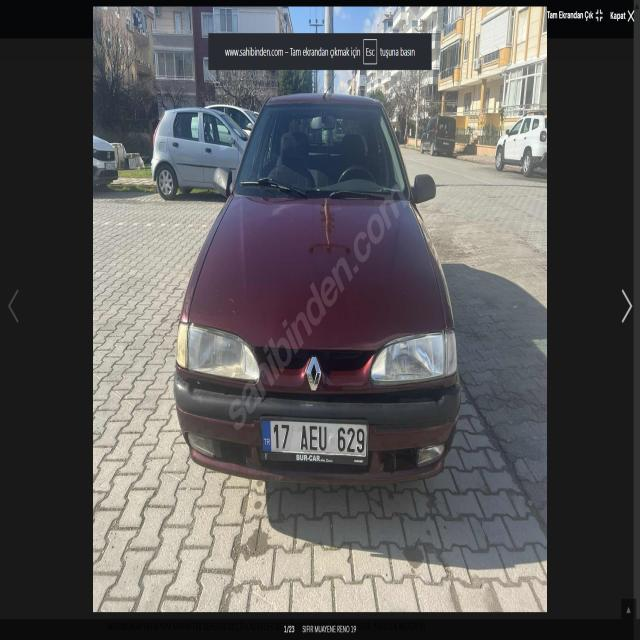renault: (304, 352, 325, 393)
